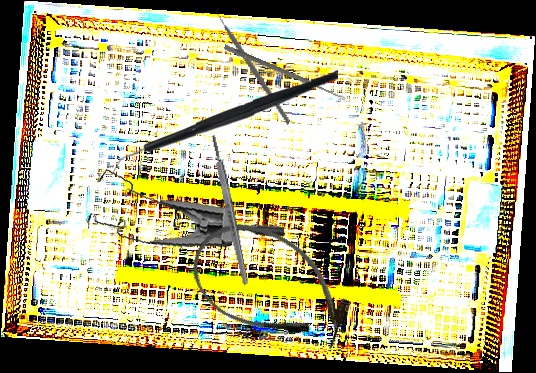Cannula: (175, 203, 368, 369)
Chopper: (110, 69, 340, 179), (185, 1, 324, 125)
Scalpel Handle: (209, 133, 250, 287)
Speculum: (79, 142, 286, 270)
Surgical Spoon: (223, 44, 347, 102)
